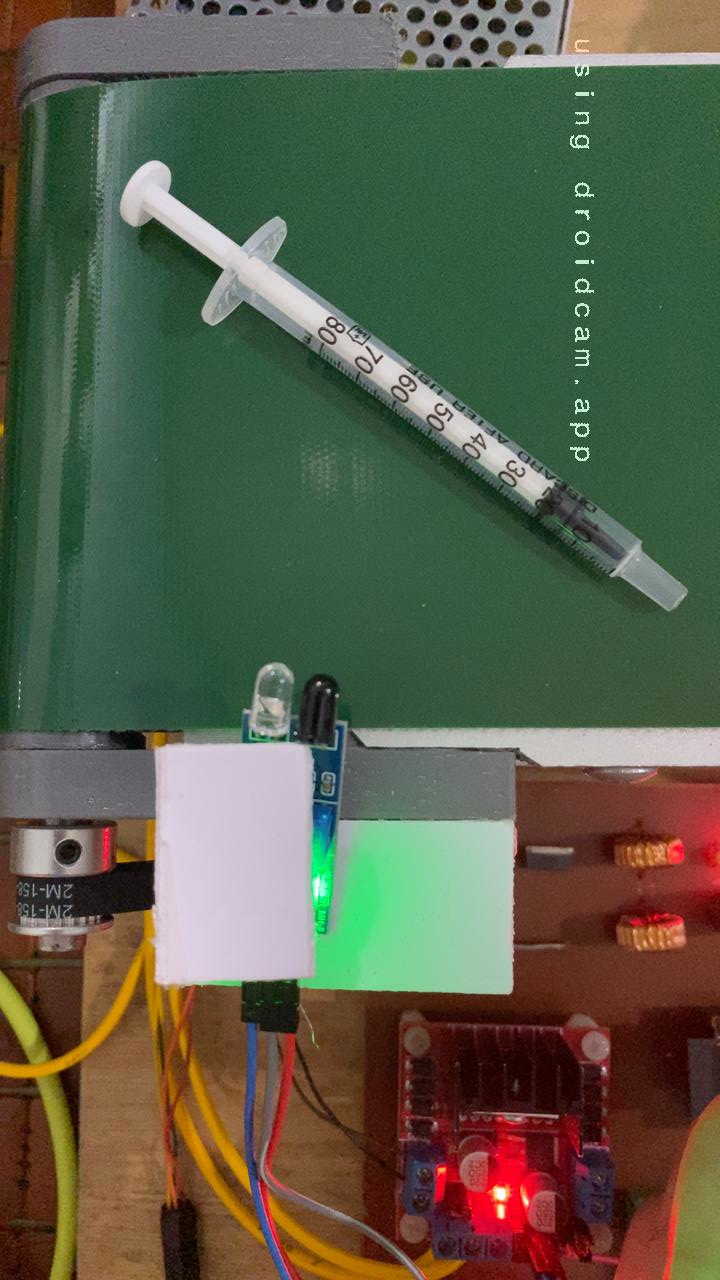syringe: (100, 153, 696, 617)
